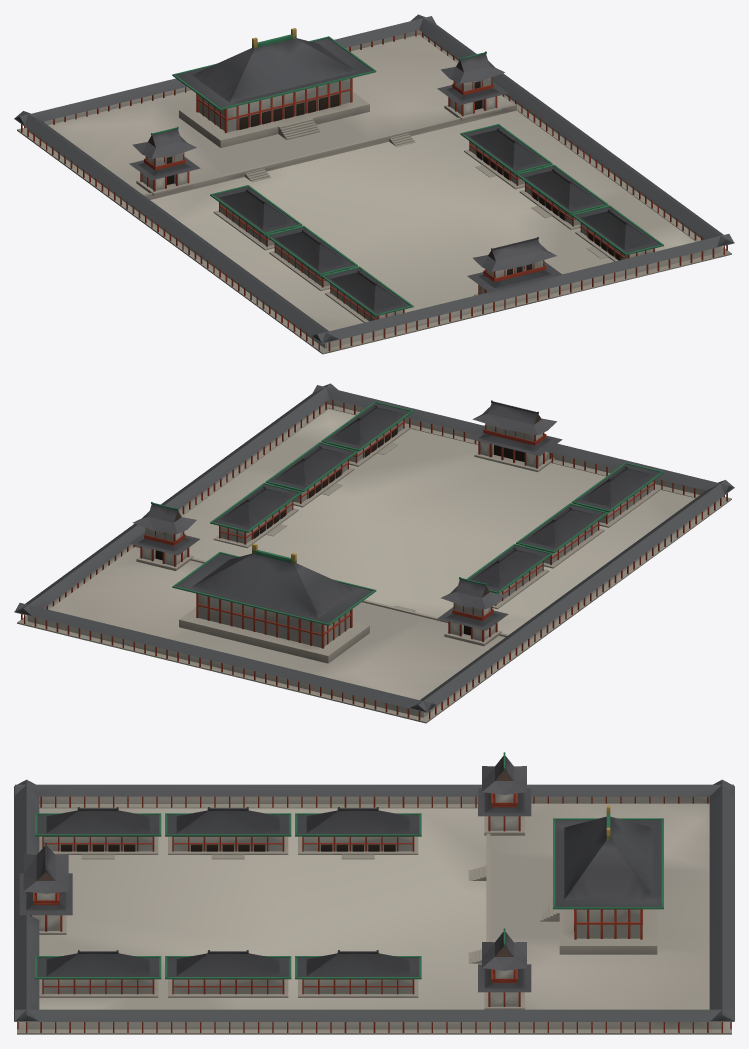
File: chodo-in.glb
3 views of the same model, one above another, from view 1: azimuth 30°, elevation 25°; view 2: azimuth 150°, elevation 25°; view 3: azimuth 270°, elevation 25° (orthographic). The views are drawn at different scales.
Visible parts, largest first — view 1: p0_grounds, p1_halls, p2_roofs; view 2: p0_grounds, p1_halls, p2_roofs; view 3: p0_grounds, p1_halls, p2_roofs.
Part boxes in pixels (left/top/right/bottom): p0_grounds: left=48, top=34, right=695, bottom=331; p1_halls: left=14, top=14, right=734, bottom=354; p2_roofs: left=129, top=28, right=663, bottom=316; p0_grounds: left=49, top=409, right=695, bottom=700; p1_halls: left=14, top=383, right=734, bottom=723; p2_roofs: left=129, top=400, right=663, bottom=630; p0_grounds: left=17, top=803, right=731, bottom=1034; p1_halls: left=14, top=779, right=734, bottom=1033; p2_roofs: left=19, top=752, right=663, bottom=992.
Bounding box in the file's own units: 172 × 34 × 222.
